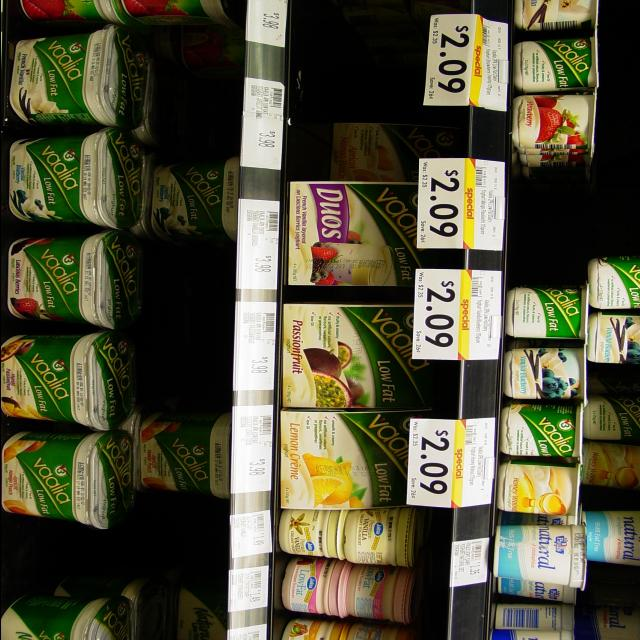empty_space: (132, 242, 232, 412), (291, 12, 423, 120), (5, 527, 203, 587), (505, 173, 639, 255), (147, 65, 231, 163), (599, 7, 639, 171)
